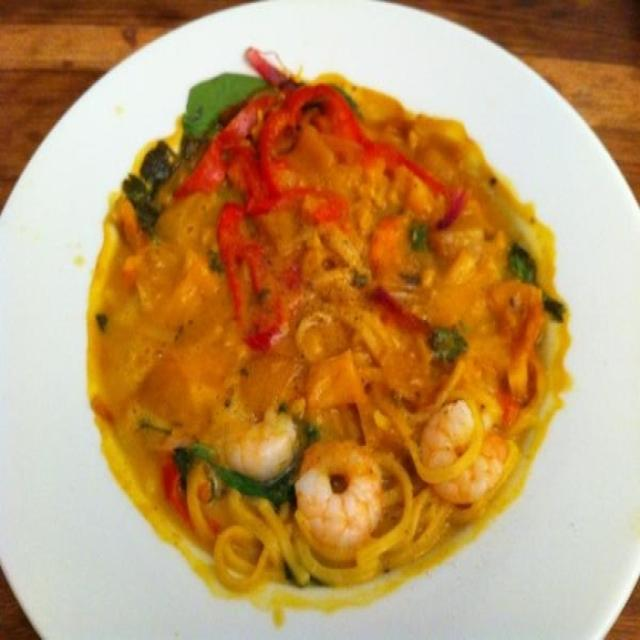面条主食: (70, 34, 584, 618)
